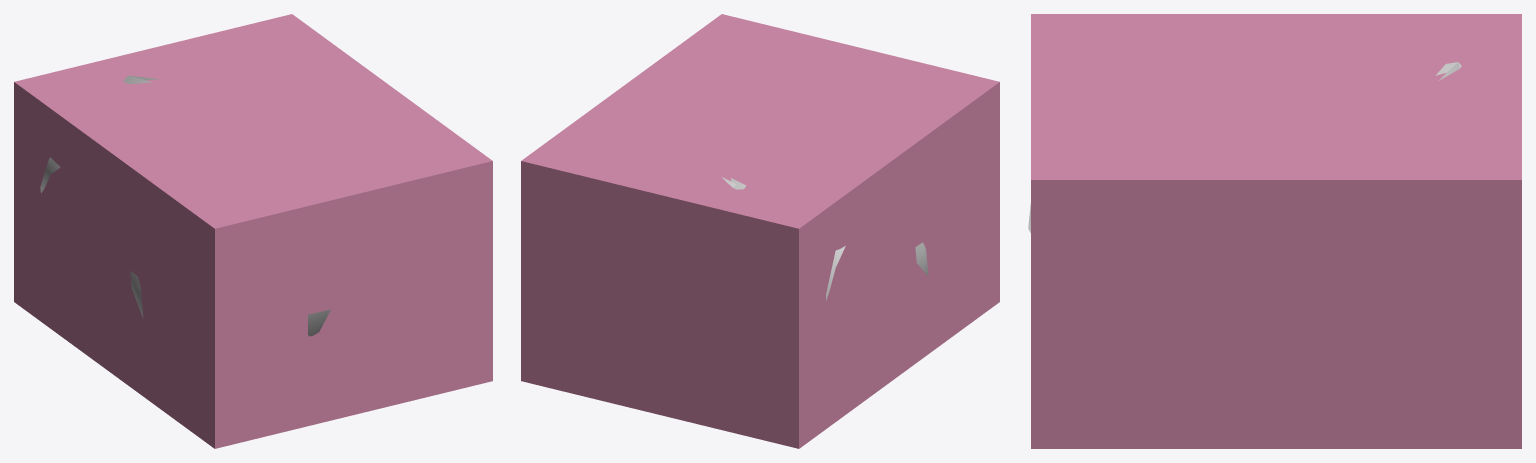
Rendered from utah_rock_big_d.dae.
3 renders of one model, left to right at view 1: azimuth 30°, elevation 25°; view 2: azimuth 150°, elevation 25°; view 3: azimuth 270°, elevation 25°, orthographic. The views are drawn at different scales.
Visible parts, largest first — view 1: Untitled, tree_oak_bush_a260; view 2: Untitled, tree_oak_bush_a260; view 3: Untitled.
Part boxes in pixels (x1,y1,x2,y2): Untitled: (14,14,492,448); tree_oak_bush_a260: (40,75,330,336); Untitled: (521,14,999,448); tree_oak_bush_a260: (731,178,928,300); Untitled: (1031,14,1521,448).
Bounding box in the file's own units: 1.46 × 1.83 × 1.12.
